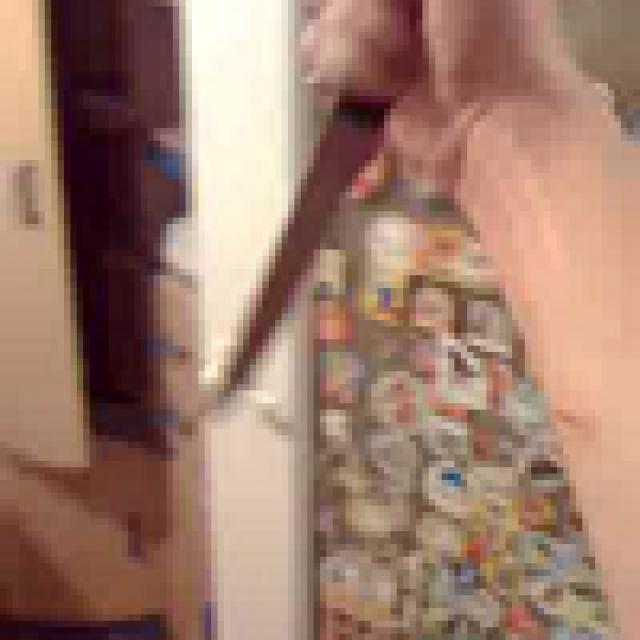Weapons: (182, 0, 456, 461)
